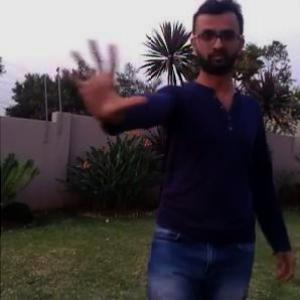follow_hand: (61, 34, 148, 120)
